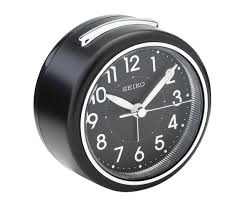alarm_clock: (33, 15, 211, 191)
